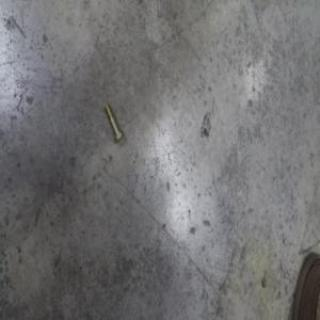Bolttrack_idkeyframe: (103, 102, 123, 146)
